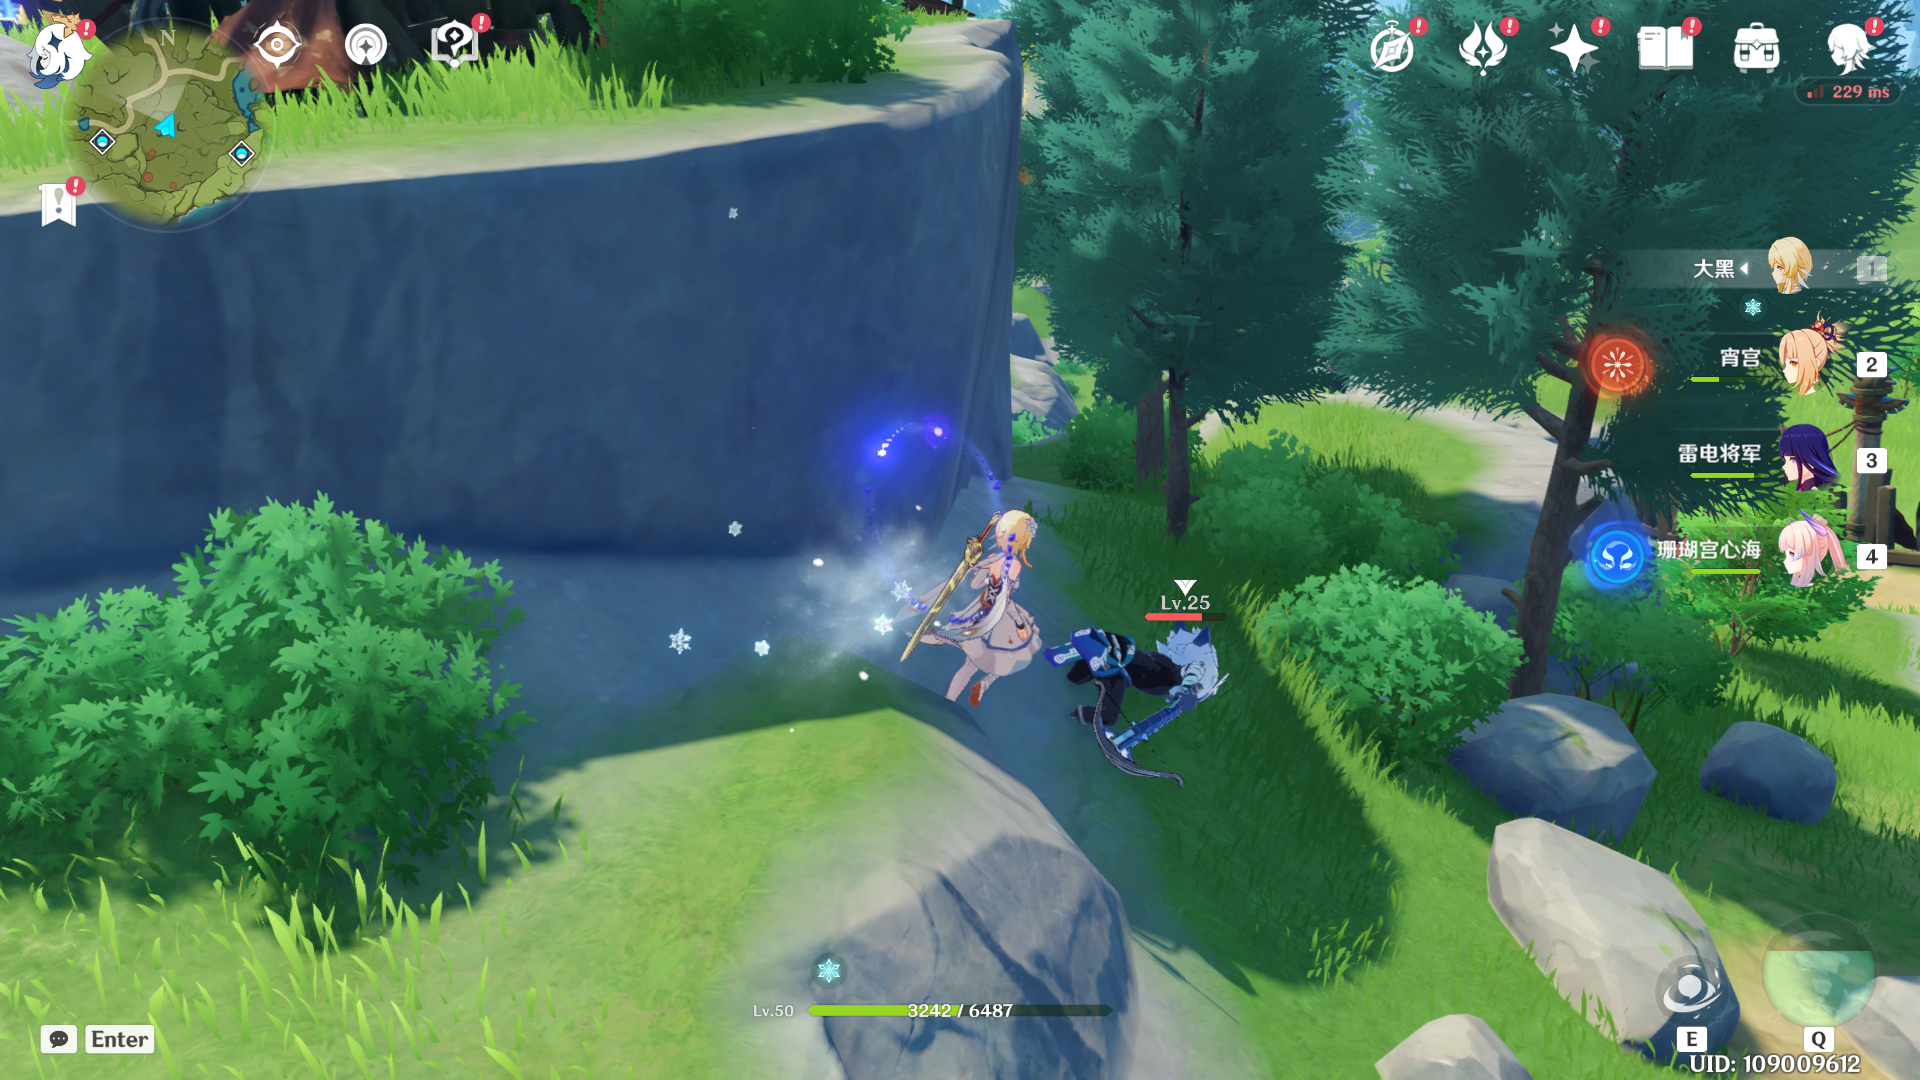character: (884, 498, 1076, 732)
hili: (1051, 564, 1269, 789)
